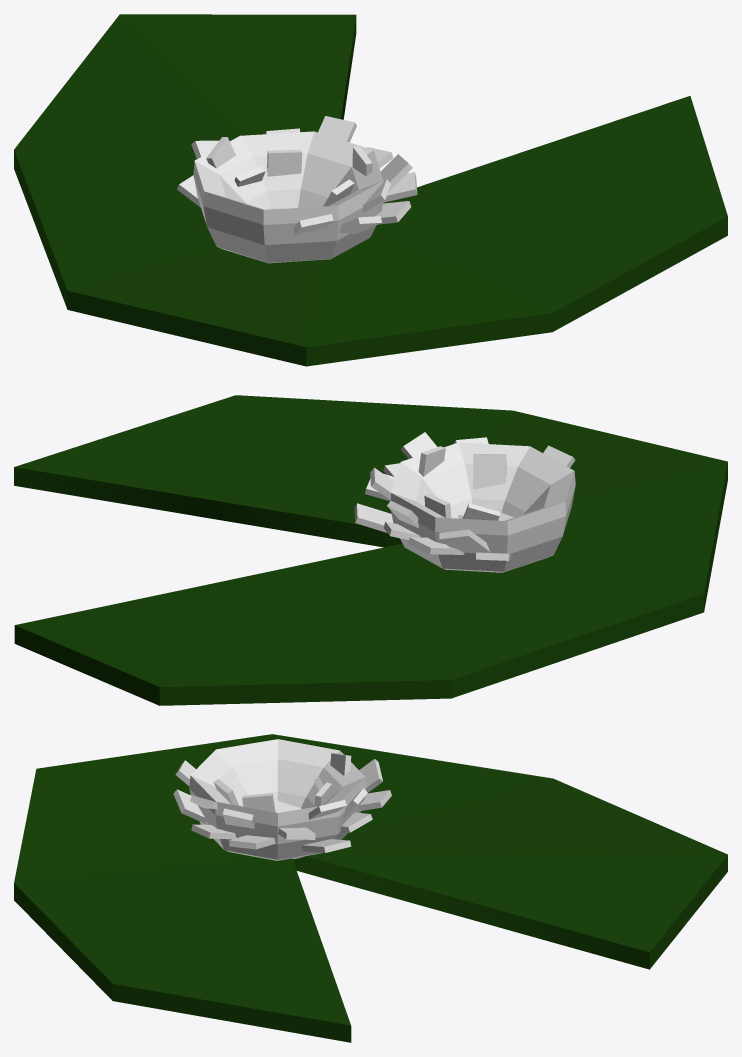
File: Lelieblad.fbx
3 renders of one model, top to bottom at view 1: azimuth 30°, elevation 25°; view 2: azimuth 150°, elevation 25°; view 3: azimuth 270°, elevation 25°, orthographic. The views are drawn at different scales.
Parts seen in each view (by area): view 1: Lelieblad; view 2: Lelieblad; view 3: Lelieblad.
Boxes of the visible parts, left/top/right/bottom form: Lelieblad: left=14, top=14, right=727, bottom=366; Lelieblad: left=14, top=395, right=727, bottom=705; Lelieblad: left=14, top=734, right=727, bottom=1042.
Bounding box in the file's own units: 1.77 × 0.2374 × 1.83.
